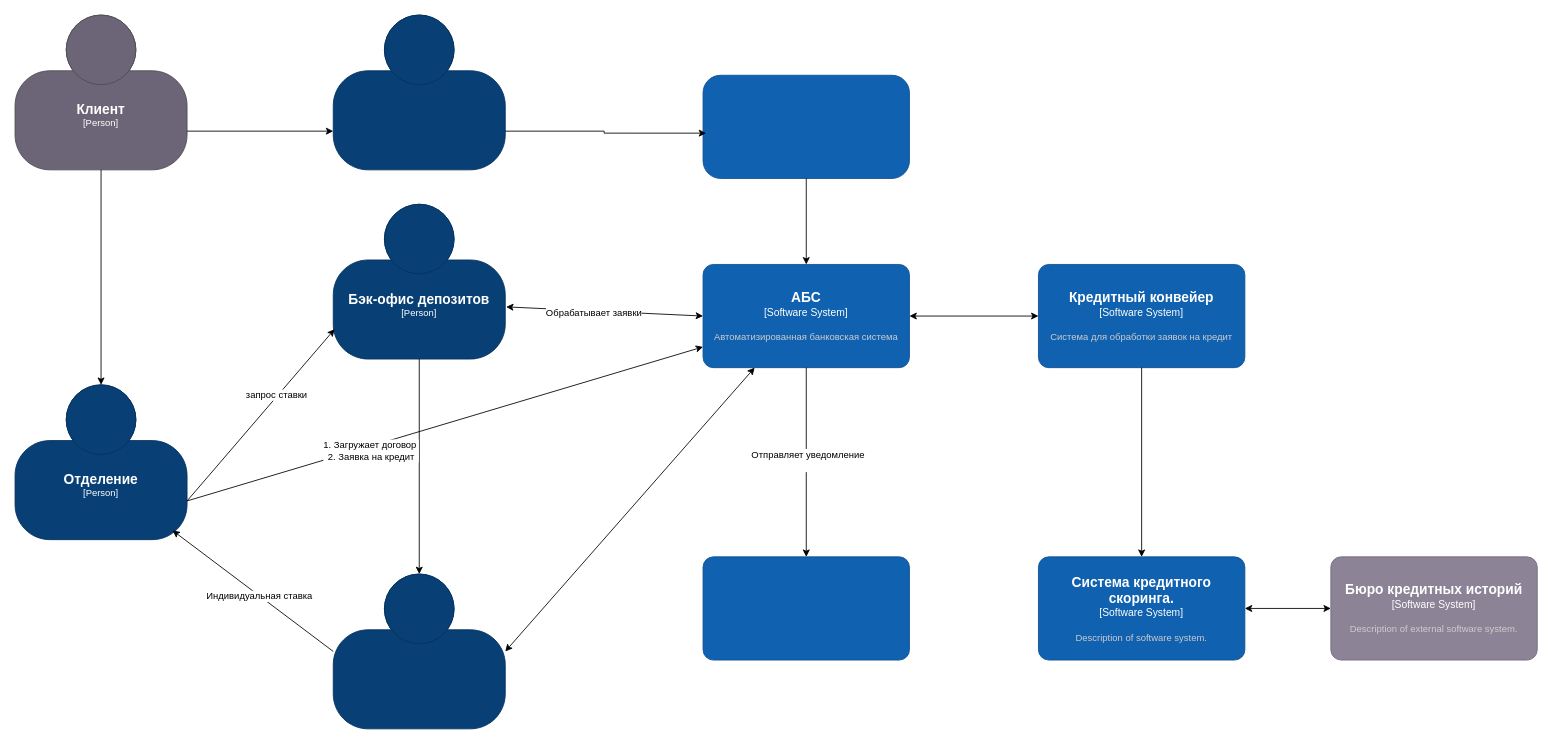
Image size: 1552x744. Some labels were removed from this diagram. Each missing label, with the box of its shape:
Кол-ценр [Person]: (332, 14, 505, 170)
Отдел кредитования [Person]: (332, 573, 505, 729)
Система кол-центра [Software System] Description of software system.: (702, 74, 909, 178)
СМС-шлюз телеком-оператора [Software System] Description of software system.: (702, 556, 909, 660)
